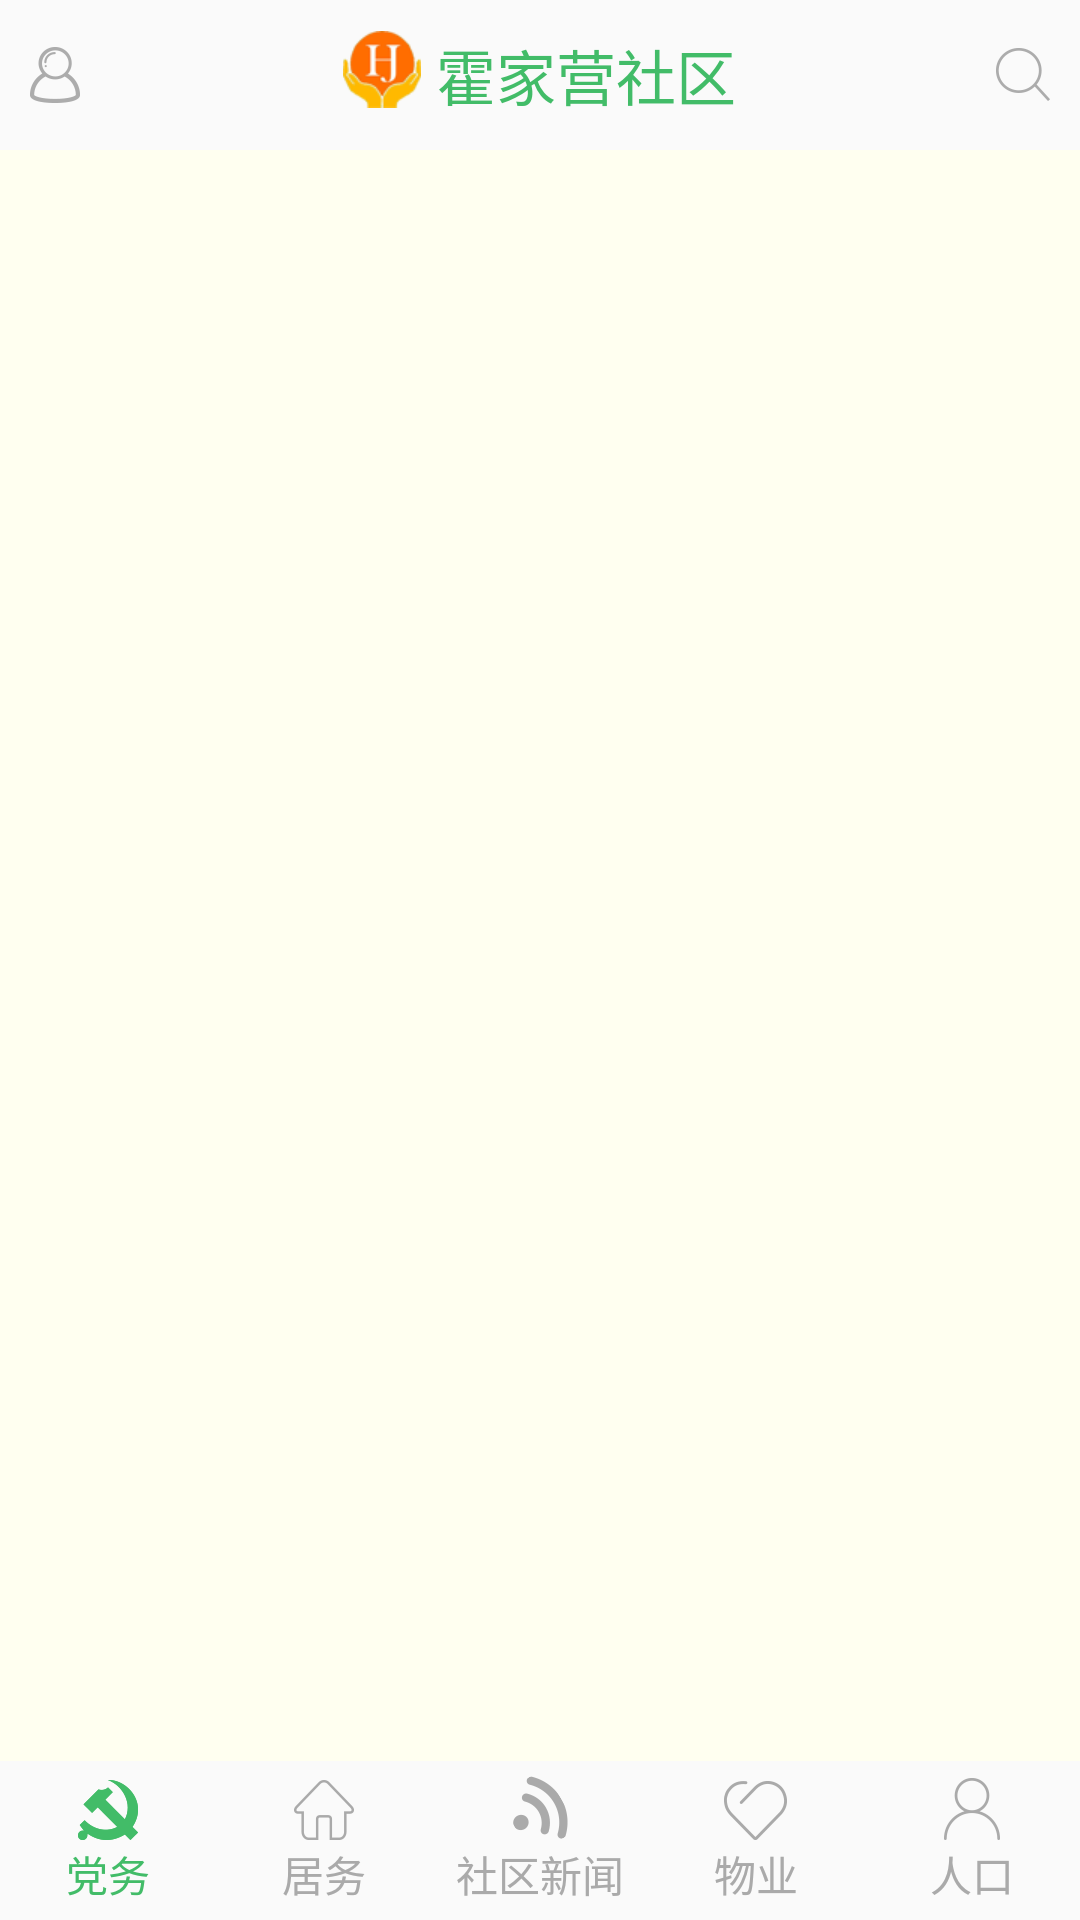

Named icons in this screenshot (1080×1920) and their bounding boxes, rect(x1, y1, x2, y2):
personal: rect(30, 47, 80, 103)
search: rect(996, 48, 1050, 101)
